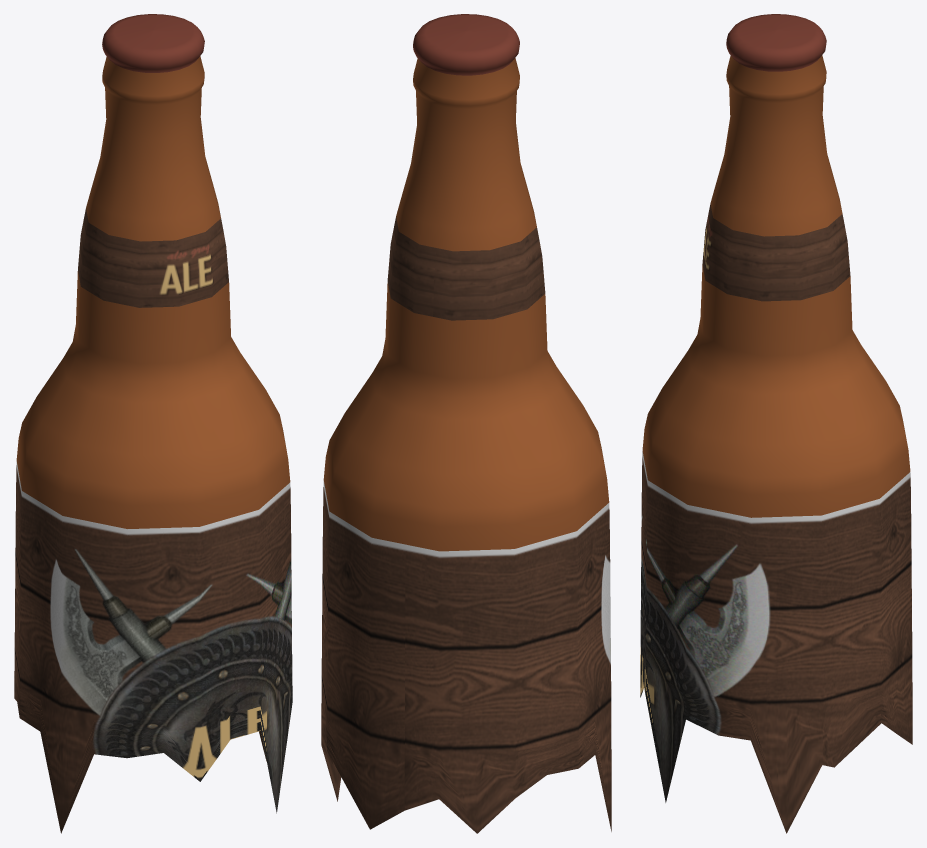
Rendered from BrokenBottle.fbx.
3 renders of one model, left to right at view 1: azimuth 30°, elevation 25°; view 2: azimuth 150°, elevation 25°; view 3: azimuth 270°, elevation 25°, orthographic. The views are drawn at different scales.
Visible parts, largest first — view 1: beerbottle; view 2: beerbottle; view 3: beerbottle.
Part boxes in pixels (left/top/right/bottom): beerbottle: left=14, top=14, right=292, bottom=833; beerbottle: left=321, top=14, right=611, bottom=833; beerbottle: left=640, top=14, right=912, bottom=833.
Bounding box in the file's own units: 5.82 × 17.59 × 5.82.
Materials: 1 (1 with a texture image).
